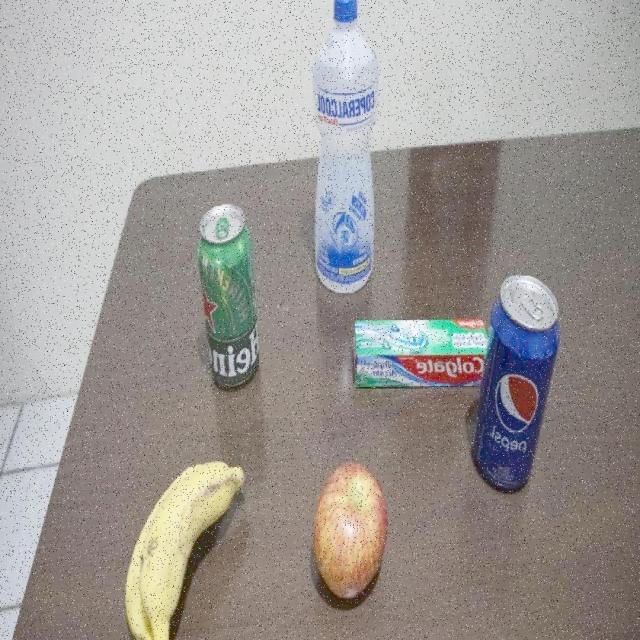AlcoholBottle: (310, 0, 380, 298)
Apple: (312, 462, 388, 604)
Banana: (120, 457, 248, 640)
BeerCan: (198, 200, 259, 395)
SodaCan: (472, 272, 559, 494)
Toothpaste: (352, 318, 493, 387)
